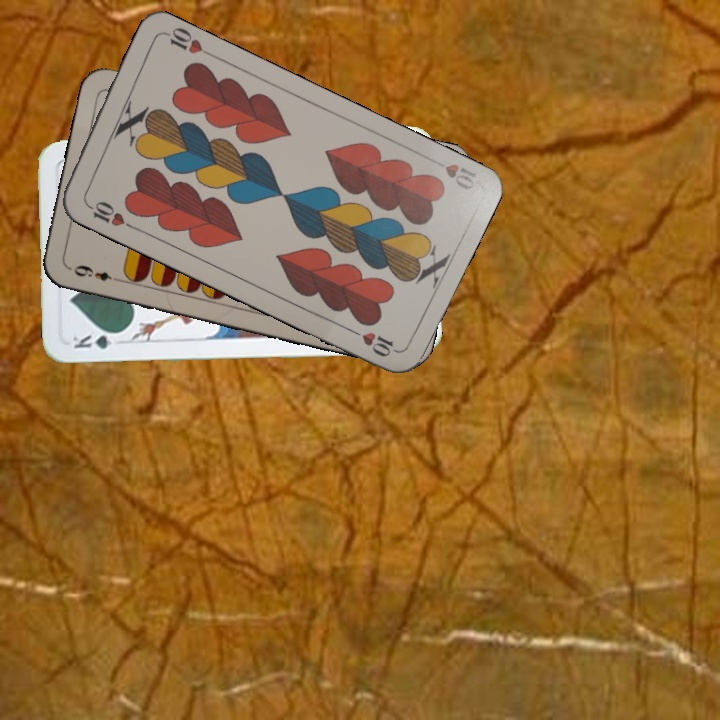E9: (70, 261, 123, 285)
GK: (68, 328, 125, 351)
H10: (81, 197, 136, 232), (439, 159, 479, 193)
